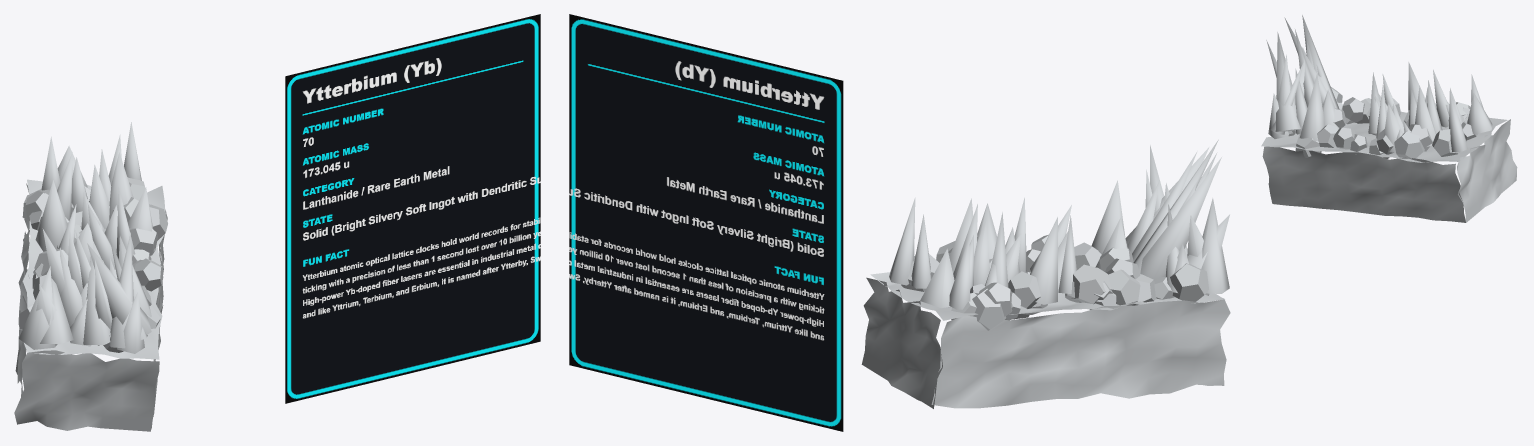
File: ytterbium.glb
3 renders of one model, left to right at view 1: azimuth 30°, elevation 25°; view 2: azimuth 150°, elevation 25°; view 3: azimuth 270°, elevation 25°, orthographic. The views are drawn at different scales.
Visible parts, largest first — view 1: Mesh_79, Mesh_0, Mesh_9, Mesh_24, Mesh_22, Mesh_6, Mesh_7, Mesh_5, Mesh_12, Mesh_20, Mesh_13, Mesh_38 (+12 smaller); view 2: Mesh_79, Mesh_0, Mesh_4, Mesh_24, Mesh_22, Mesh_33, Mesh_51, Mesh_34, Mesh_71, Mesh_11, Mesh_29, Mesh_28 (+9 smaller); view 3: Mesh_0, Mesh_9, Mesh_29, Mesh_56, Mesh_34, Mesh_4, Mesh_33, Mesh_13, Mesh_14, Mesh_76, Mesh_26, Mesh_19 (+16 smaller).
Boxes of the visible parts, left/top/right/bottom form: Mesh_79: left=285, top=14, right=540, bottom=403; Mesh_0: left=14, top=179, right=167, bottom=431; Mesh_9: left=87, top=243, right=151, bottom=334; Mesh_24: left=19, top=266, right=55, bottom=349; Mesh_22: left=35, top=180, right=67, bottom=251; Mesh_6: left=83, top=256, right=110, bottom=344; Mesh_7: left=109, top=232, right=133, bottom=348; Mesh_5: left=40, top=278, right=73, bottom=344; Mesh_12: left=60, top=247, right=82, bottom=326; Mesh_20: left=117, top=292, right=144, bottom=353; Mesh_13: left=109, top=152, right=133, bottom=220; Mesh_38: left=89, top=164, right=109, bottom=229; Mesh_79: left=569, top=14, right=843, bottom=431; Mesh_0: left=861, top=272, right=1230, bottom=408; Mesh_4: left=1140, top=157, right=1221, bottom=280; Mesh_24: left=1201, top=198, right=1229, bottom=293; Mesh_22: left=1030, top=217, right=1057, bottom=304; Mesh_33: left=889, top=197, right=915, bottom=285; Mesh_51: left=1170, top=263, right=1208, bottom=301; Mesh_34: left=920, top=248, right=954, bottom=307; Mesh_71: left=1071, top=264, right=1111, bottom=304; Mesh_11: left=1133, top=139, right=1218, bottom=274; Mesh_29: left=1091, top=180, right=1125, bottom=254; Mesh_28: left=949, top=236, right=970, bottom=309; Mesh_0: left=1261, top=111, right=1517, bottom=222; Mesh_9: left=1275, top=32, right=1300, bottom=131; Mesh_29: left=1299, top=73, right=1325, bottom=141; Mesh_56: left=1394, top=130, right=1424, bottom=158; Mesh_34: left=1467, top=93, right=1492, bottom=134; Mesh_4: left=1302, top=15, right=1339, bottom=109; Mesh_33: left=1450, top=92, right=1467, bottom=152; Mesh_13: left=1415, top=85, right=1436, bottom=146; Mesh_14: left=1433, top=69, right=1449, bottom=127; Mesh_76: left=1432, top=129, right=1458, bottom=156; Mesh_26: left=1368, top=72, right=1380, bottom=133; Mesh_19: left=1382, top=103, right=1403, bottom=152.
Bounding box in the file's own units: 2.54 × 1.4 × 1.35.
Materials: 2 (1 with a texture image).
